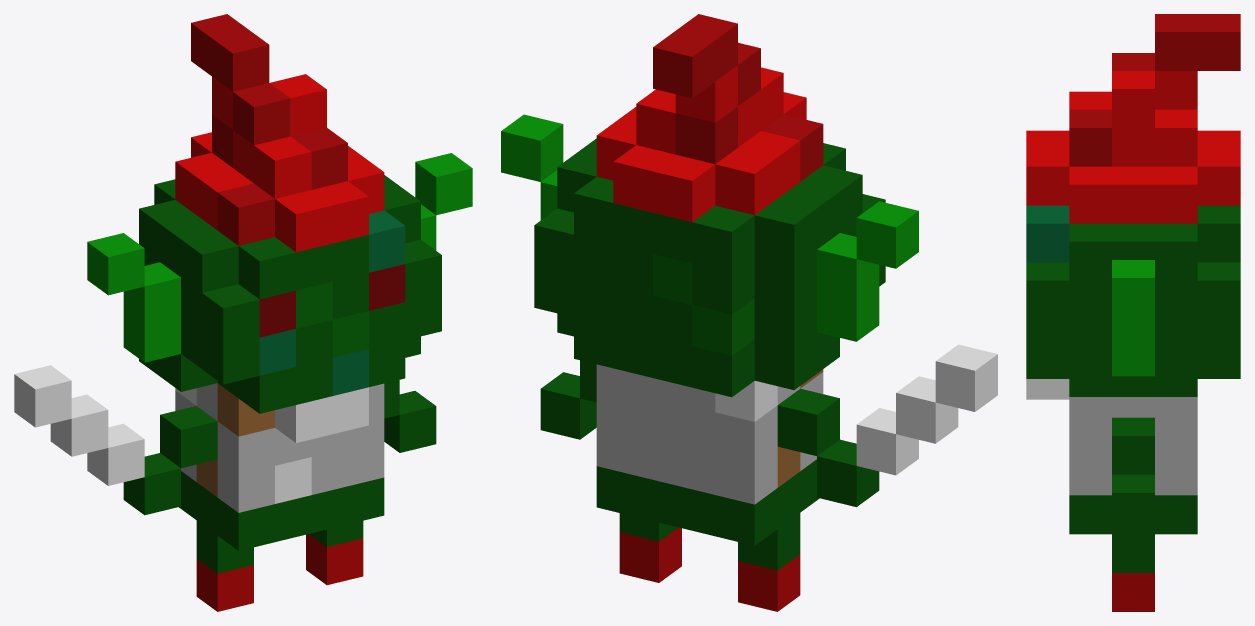
File: SwordGoblin_Idle0.obj
The picture shows the model from 3 angles, left to right: view 1: azimuth 30°, elevation 25°; view 2: azimuth 150°, elevation 25°; view 3: azimuth 270°, elevation 25°; orthographic projection. The views are drawn at different scales.
Bounding box in the file's own units: 12 × 14 × 5.
